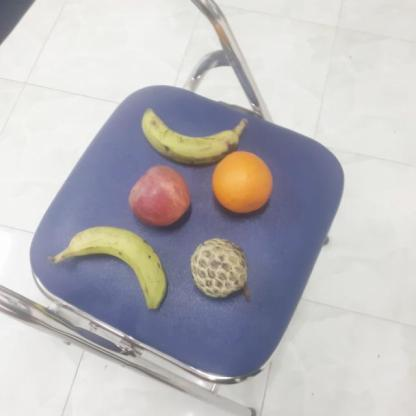annona: (188, 235, 251, 300)
apple: (124, 162, 192, 225)
banana: (66, 221, 168, 311), (140, 105, 240, 167)
orange: (212, 151, 274, 216)
